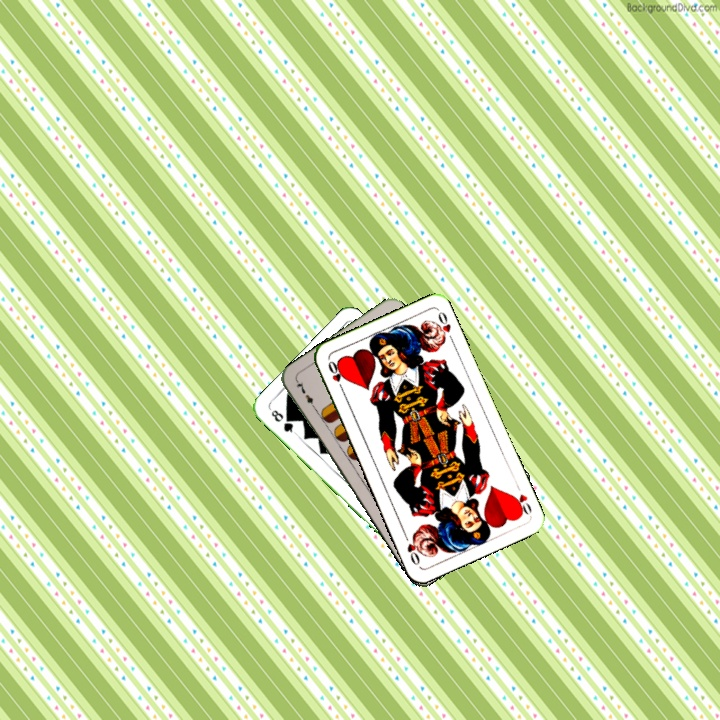E7: (292, 377, 320, 413)
G8: (267, 406, 299, 437)
HO: (509, 479, 534, 518), (324, 357, 347, 395)
